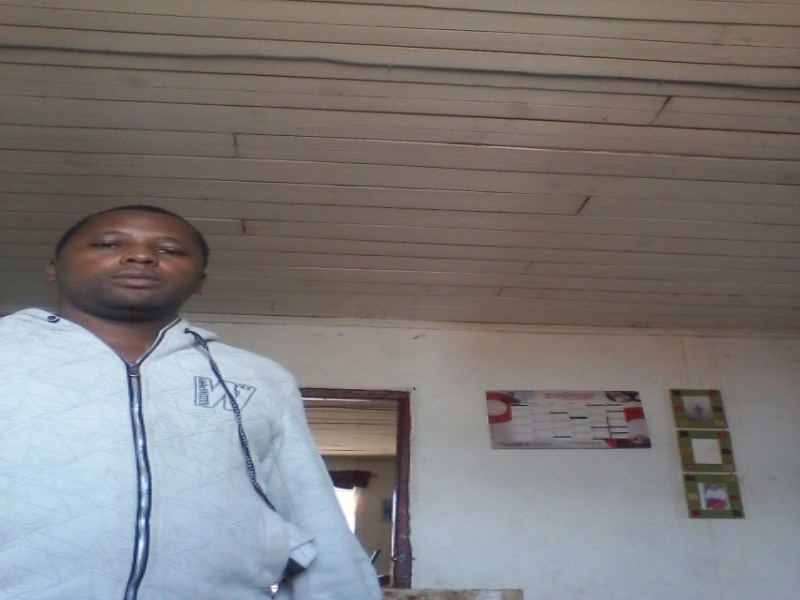TsisyArotava: (57, 191, 212, 322)
